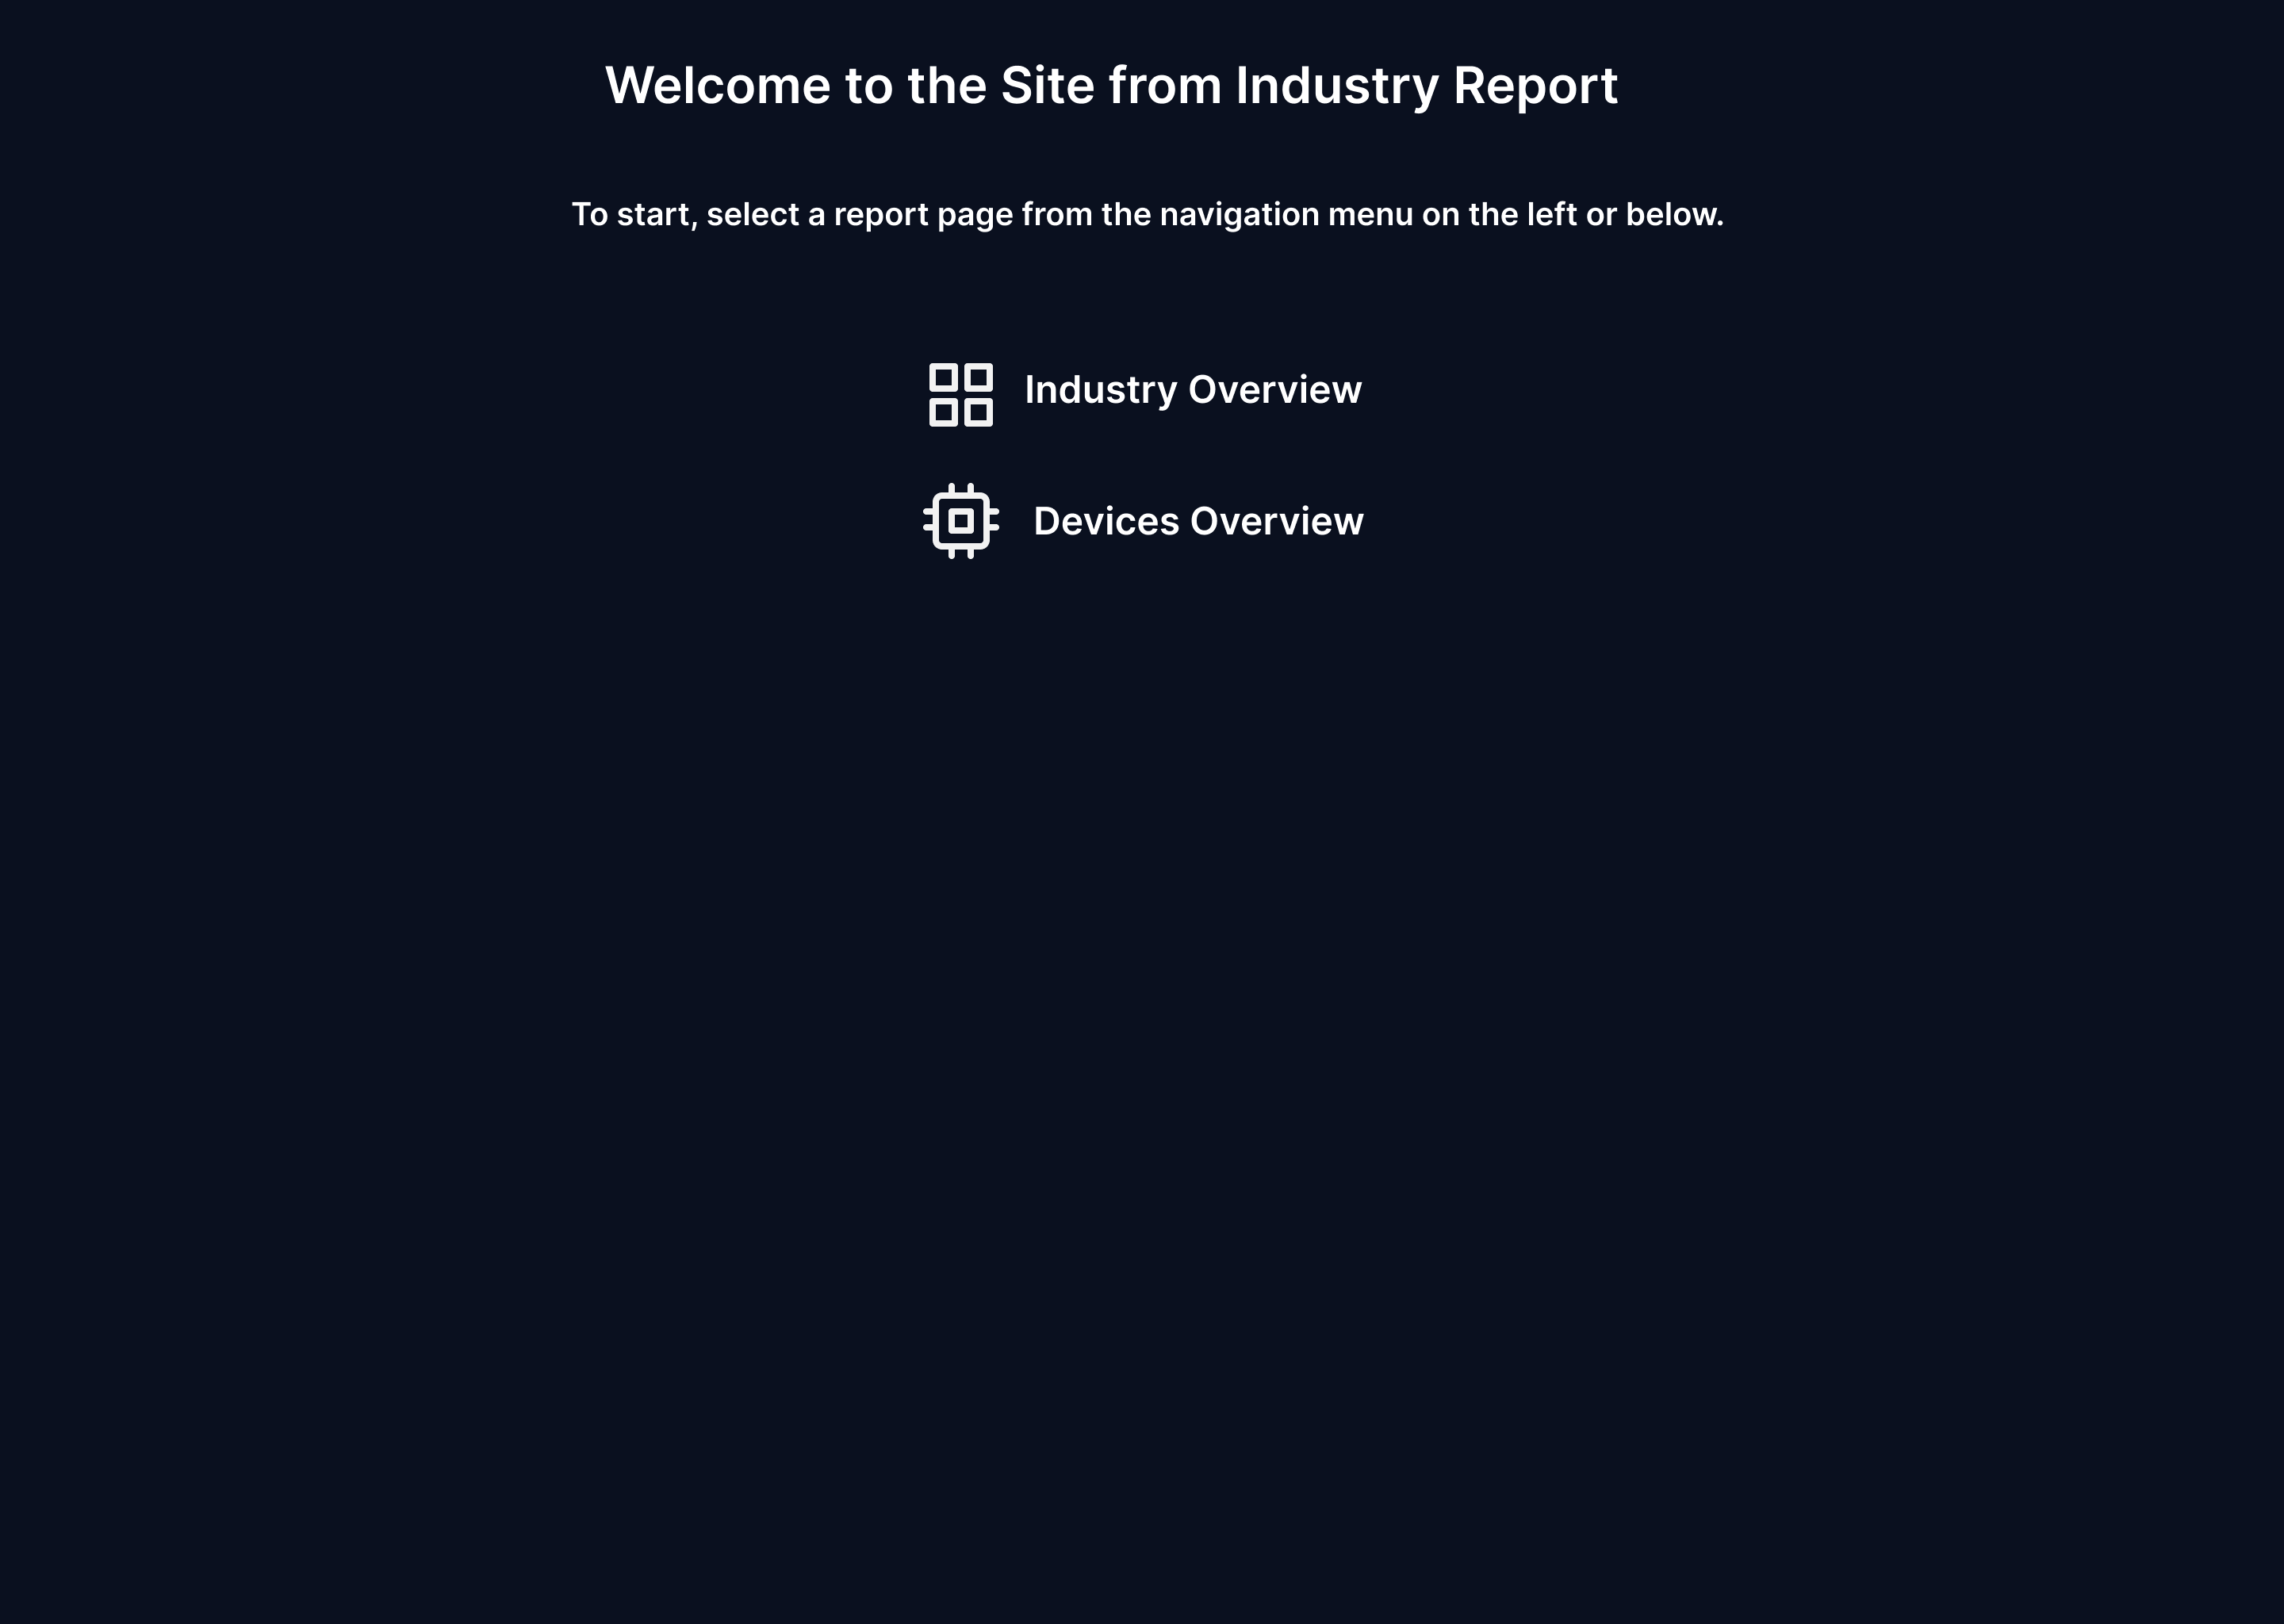

The dashboard page shown, as its layout file describes it:
{"tool":"powerbi","page":{"name":"Landing Page","canvas":[1920,1080],"ordinal":0},"visuals":[{"type":"actionButton","box":[742.5,207.5,487.5,90],"z":0},{"type":"actionButton","box":[742.5,315,447.5,75],"z":1}]}

Visuals, with their boxes on the page's 1920x1080 design canvas (x1, y1, x2, y2). These are canvas units, not pixel positions in the 2284x1624 screenshot, which may show the page scaled, cropped or inside an application window:
actionButton: (742, 208, 1230, 298)
actionButton: (742, 315, 1190, 390)
